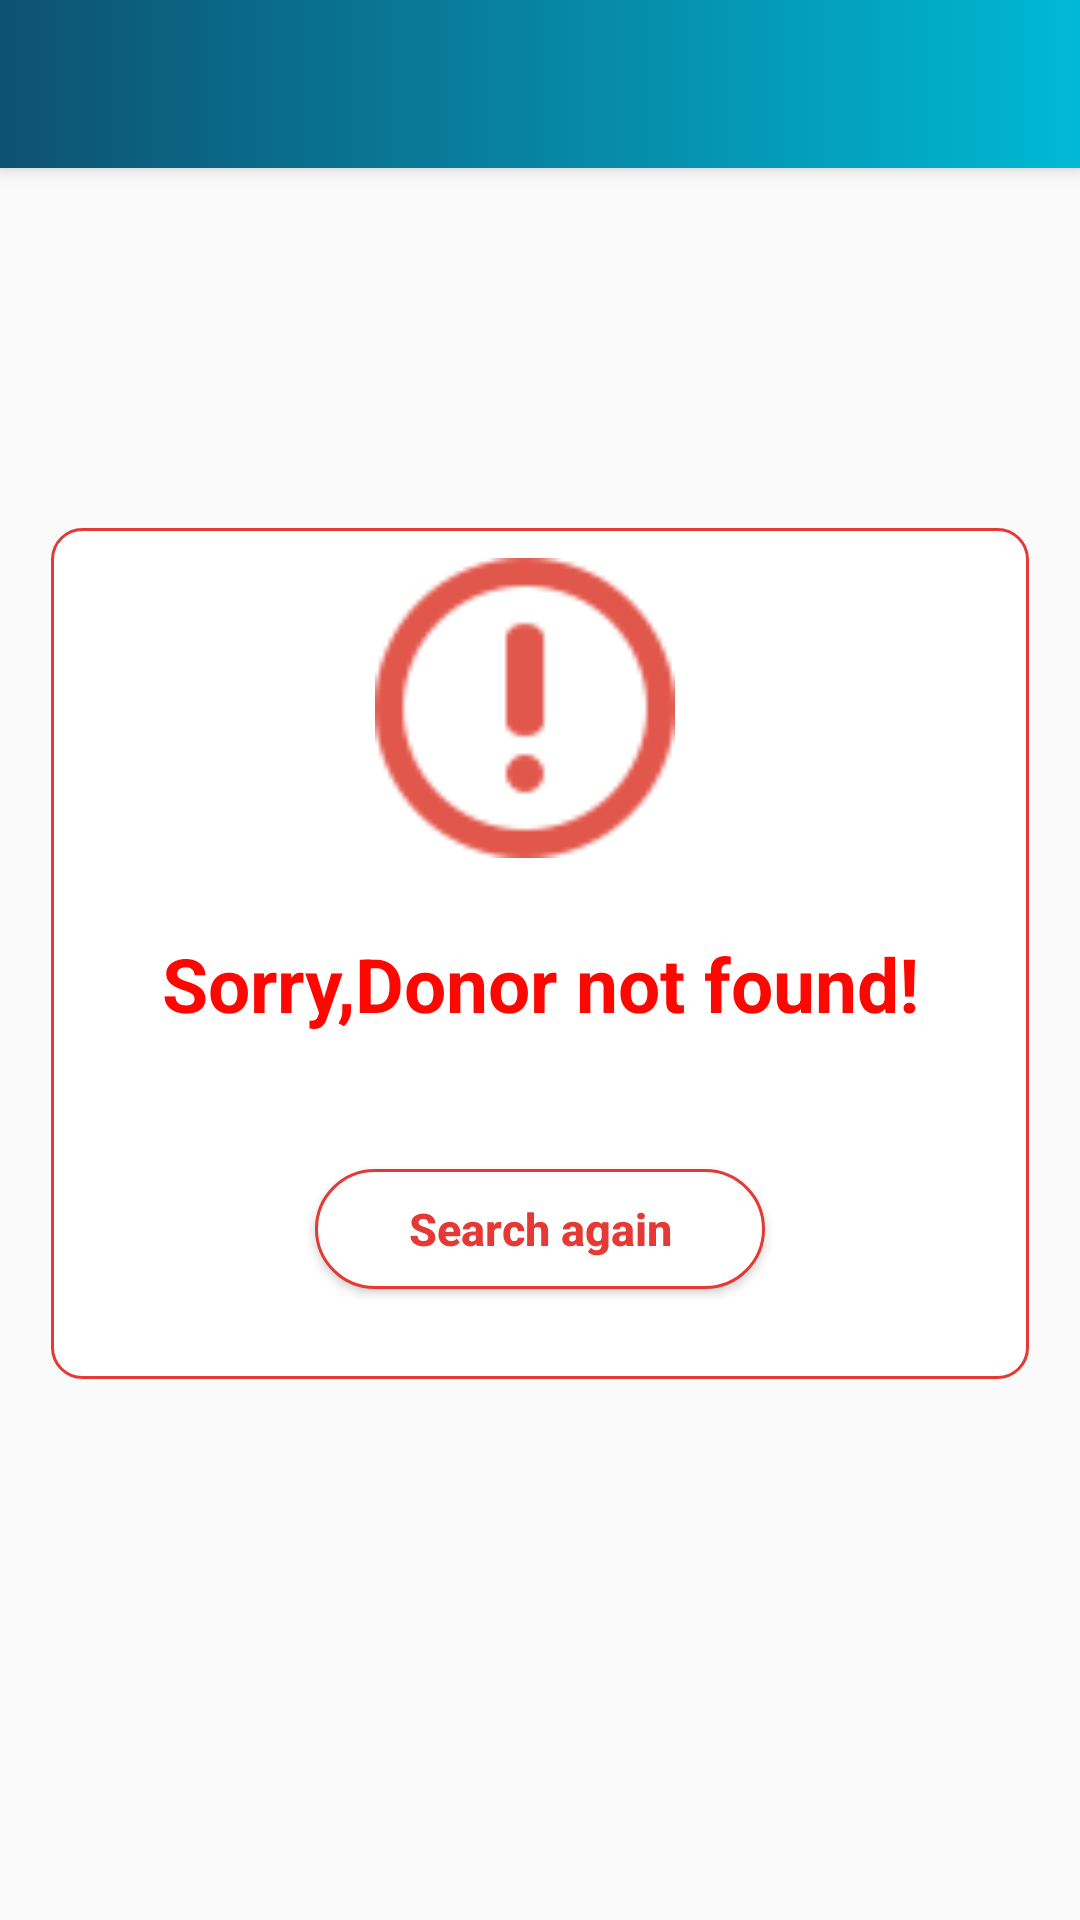

Where to tap for icons on this 1080 × 1920 app screen, as (x=x, y=y):
alert: (x=525, y=708)
